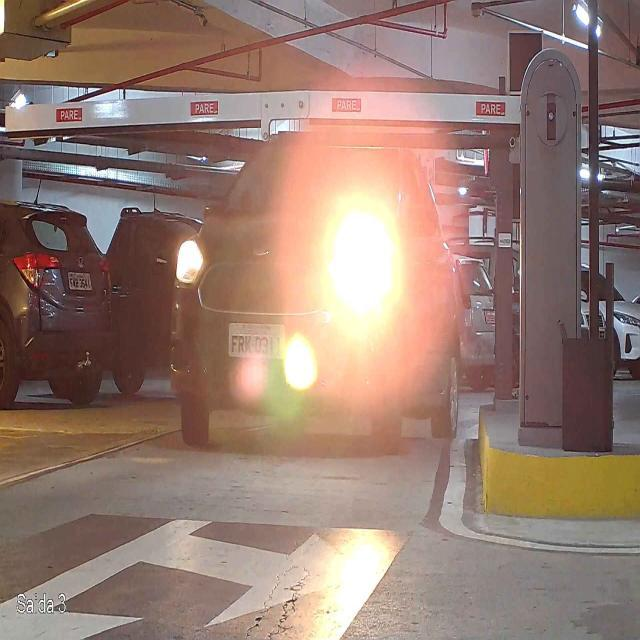old_plate: (228, 322, 287, 360)
